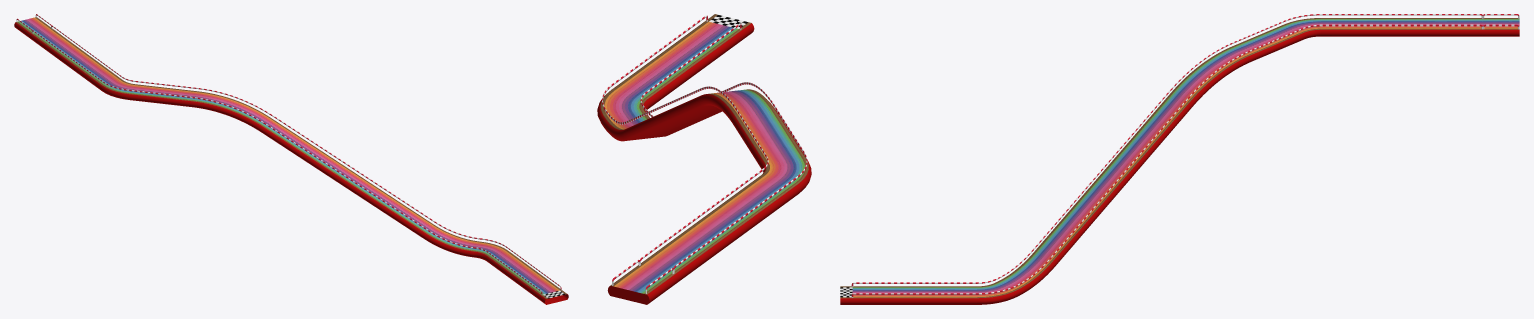
File: map24bonus.fbx
The picture shows the model from 3 angles, left to right: view 1: azimuth 30°, elevation 25°; view 2: azimuth 150°, elevation 25°; view 3: azimuth 270°, elevation 25°; orthographic projection. The views are drawn at different scales.
Visible parts, largest first — view 1: Terrain_CurveDown_Bar_Bonus_1_2, Terrain_Flat_BarStart_Bonus, Terrain_Flat_BarEnd_Bonus, Terrain_CurveDown_Bar_Bonus_1_1, Terrain_Flat_Bar_Bonus, Terrain_CurveDown_Bar_Bonus_1_3, Dummy_Start_1, Terrain_Left_Flat_Bar_Bonus; view 2: Terrain_Flat_BarStart_Bonus, Terrain_Flat_BarEnd_Bonus, Terrain_Flat_Bar_Bonus, Terrain_CurveDown_Bar_Bonus_1_2, Dummy_Start_1, Terrain_CurveDown_Bar_Bonus_1_1, Terrain_Left_Flat_Bar_Bonus, Terrain_Right_Bar_Bonus, Terrain_CurveDown_Bar_Bonus_1_3, Dummy_Finish_1, Pipe_2_021, Pipe_5_017 (+3 smaller); view 3: Terrain_CurveDown_Bar_Bonus_1_2, Terrain_Flat_BarStart_Bonus, Terrain_Flat_BarEnd_Bonus, Terrain_CurveDown_Bar_Bonus_1_1, Terrain_Flat_Bar_Bonus, Terrain_CurveDown_Bar_Bonus_1_3, Dummy_Start_1, Terrain_Right_Bar_Bonus, Pipe_2_021, Terrain_Left_Flat_Bar_Bonus.
Boxes of the visible parts, <box> form: Terrain_CurveDown_Bar_Bonus_1_2: <box>262,118,433,238</box>; Terrain_Flat_BarStart_Bonus: <box>30,29,122,90</box>; Terrain_Flat_BarEnd_Bonus: <box>485,250,561,299</box>; Terrain_CurveDown_Bar_Bonus_1_1: <box>191,91,270,132</box>; Terrain_Flat_Bar_Bonus: <box>128,84,197,106</box>; Terrain_CurveDown_Bar_Bonus_1_3: <box>425,225,480,257</box>; Dummy_Start_1: <box>14,17,52,38</box>; Terrain_Left_Flat_Bar_Bonus: <box>100,80,134,99</box>; Terrain_Flat_BarStart_Bonus: <box>641,175,800,283</box>; Terrain_Flat_BarEnd_Bonus: <box>611,21,744,107</box>; Terrain_Flat_Bar_Bonus: <box>733,112,805,169</box>; Terrain_CurveDown_Bar_Bonus_1_2: <box>623,95,722,140</box>; Dummy_Start_1: <box>607,265,677,304</box>; Terrain_CurveDown_Bar_Bonus_1_1: <box>699,89,777,124</box>; Terrain_Left_Flat_Bar_Bonus: <box>762,159,811,192</box>; Terrain_Right_Bar_Bonus: <box>597,90,650,120</box>; Terrain_CurveDown_Bar_Bonus_1_3: <box>600,110,666,141</box>; Dummy_Finish_1: <box>706,14,754,38</box>; Pipe_2_021: <box>641,168,763,258</box>; Pipe_5_017: <box>675,177,797,267</box>; Terrain_CurveDown_Bar_Bonus_1_2: <box>1033,94,1192,265</box>; Terrain_Flat_BarStart_Bonus: <box>1320,18,1482,36</box>; Terrain_Flat_BarEnd_Bonus: <box>852,286,976,304</box>; Terrain_CurveDown_Bar_Bonus_1_1: <box>1170,46,1252,105</box>; Terrain_Flat_Bar_Bonus: <box>1232,24,1305,61</box>; Terrain_CurveDown_Bar_Bonus_1_3: <box>994,253,1055,298</box>; Dummy_Start_1: <box>1482,18,1519,36</box>; Terrain_Right_Bar_Bonus: <box>977,283,1014,304</box>; Pipe_2_021: <box>1320,24,1480,26</box>; Terrain_Left_Flat_Bar_Bonus: <box>1285,18,1320,38</box>.
Size of the model in its own units: 5542 by 2616 by 10927.
Materials: 6 (4 with a texture image).
